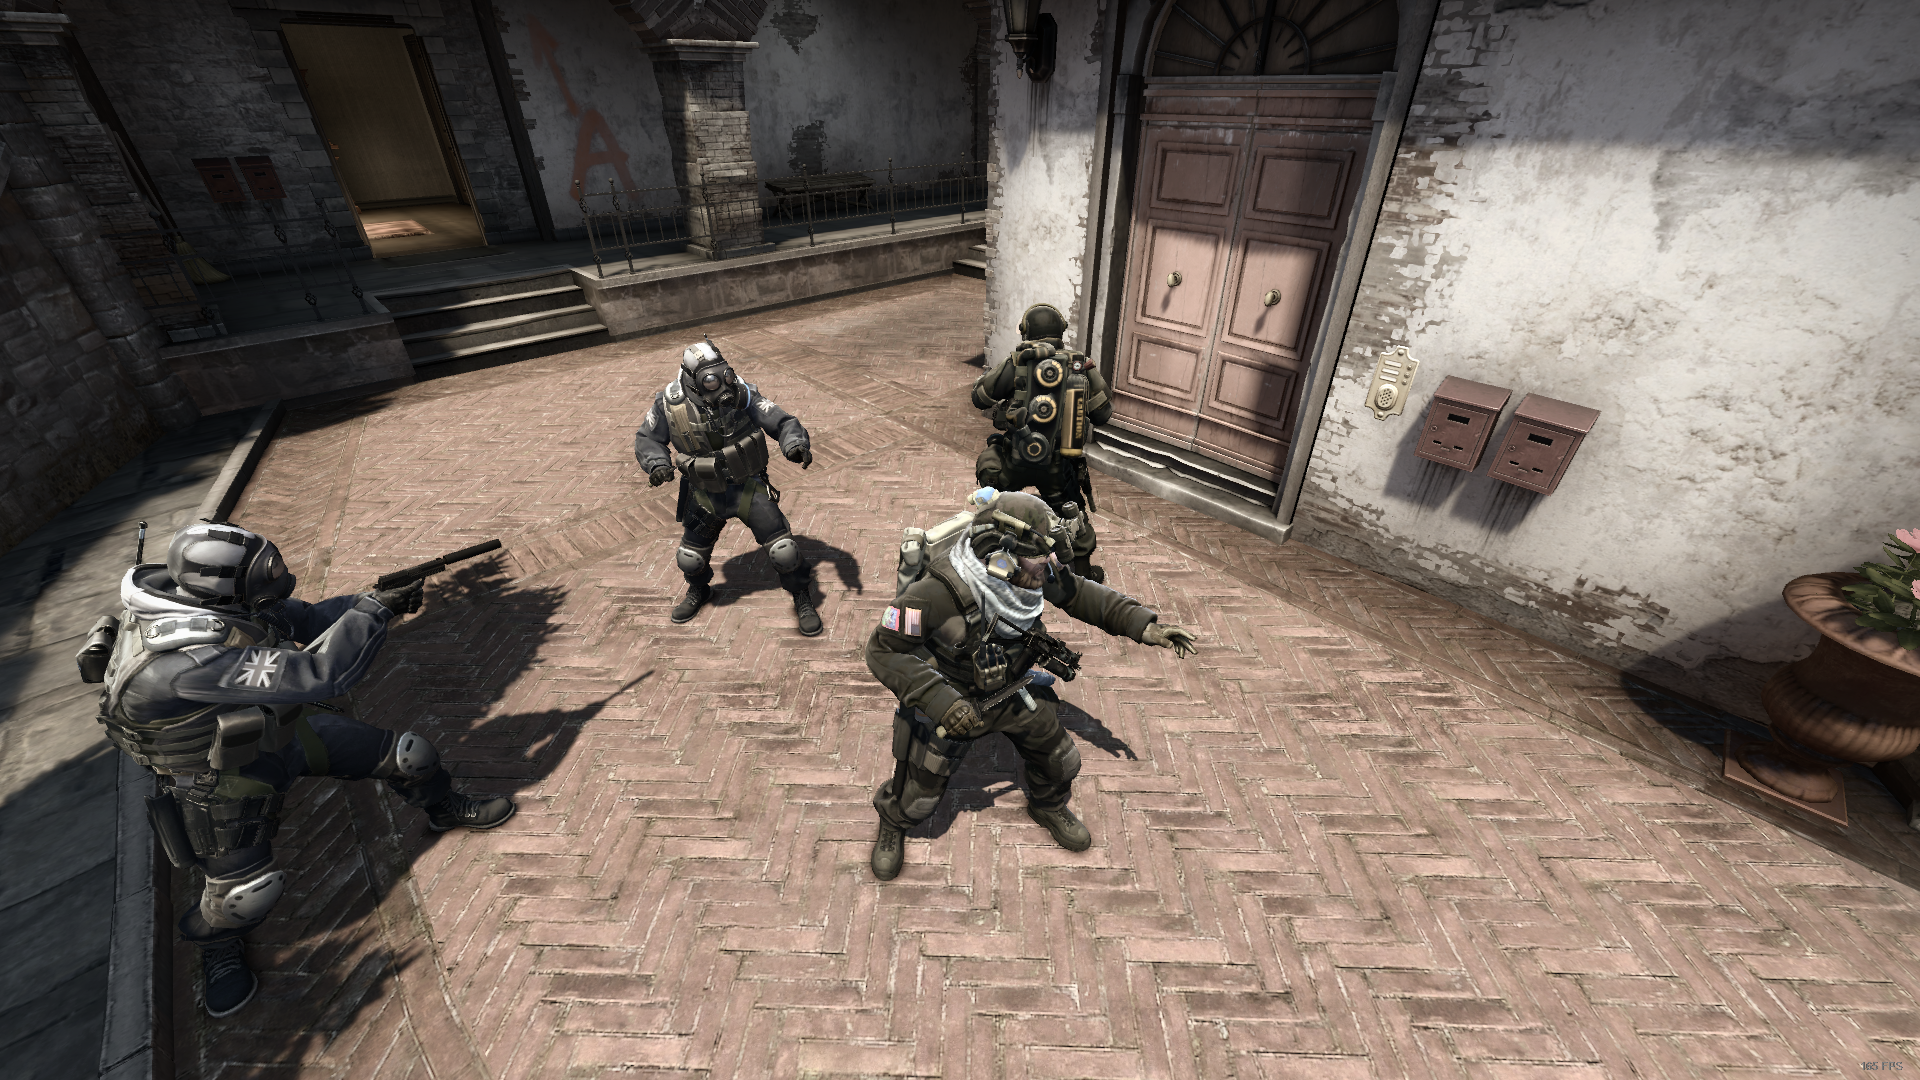ct: (84, 516, 531, 1029), (630, 338, 841, 641)
